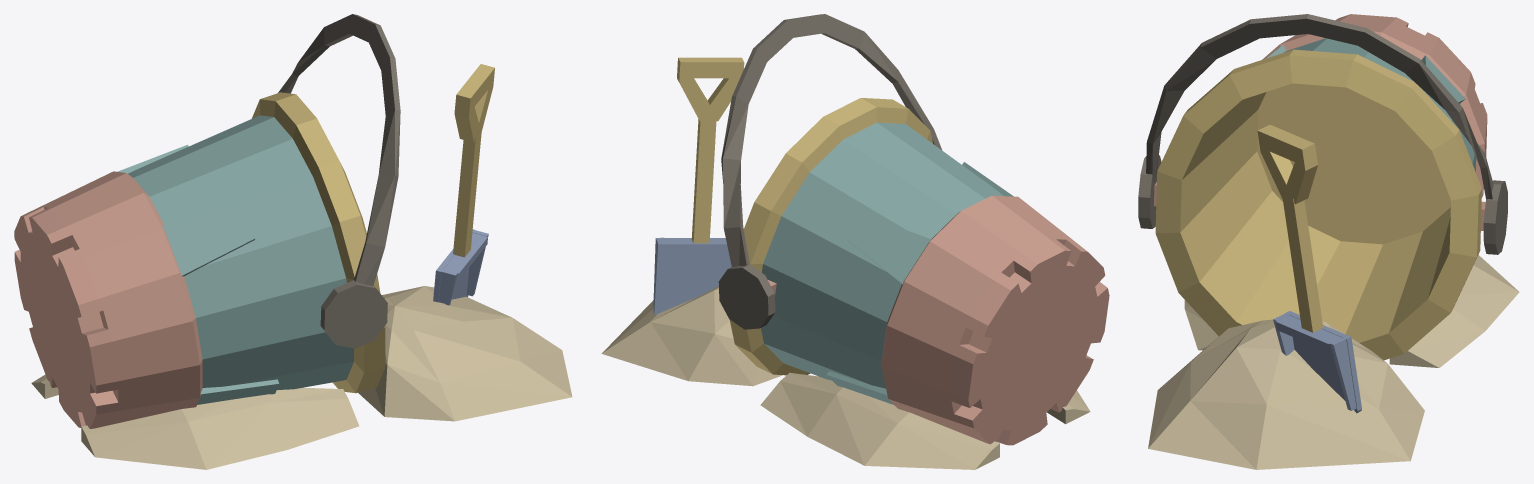
Rendered from beach-bucket-dc52dd.glb.
The picture shows the model from 3 angles, left to right: view 1: azimuth 30°, elevation 25°; view 2: azimuth 150°, elevation 25°; view 3: azimuth 270°, elevation 25°; orthographic projection. The views are drawn at different scales.
Parts seen in each view (by area): view 1: bail; view 2: bail; view 3: bail.
Boxes of the visible parts, x1,y1,x2,y2 form: bail: [14, 14, 572, 469]; bail: [601, 14, 1109, 469]; bail: [1138, 14, 1519, 469].
Size of the model in its own units: 0.3908 by 0.2732 by 0.2545.
